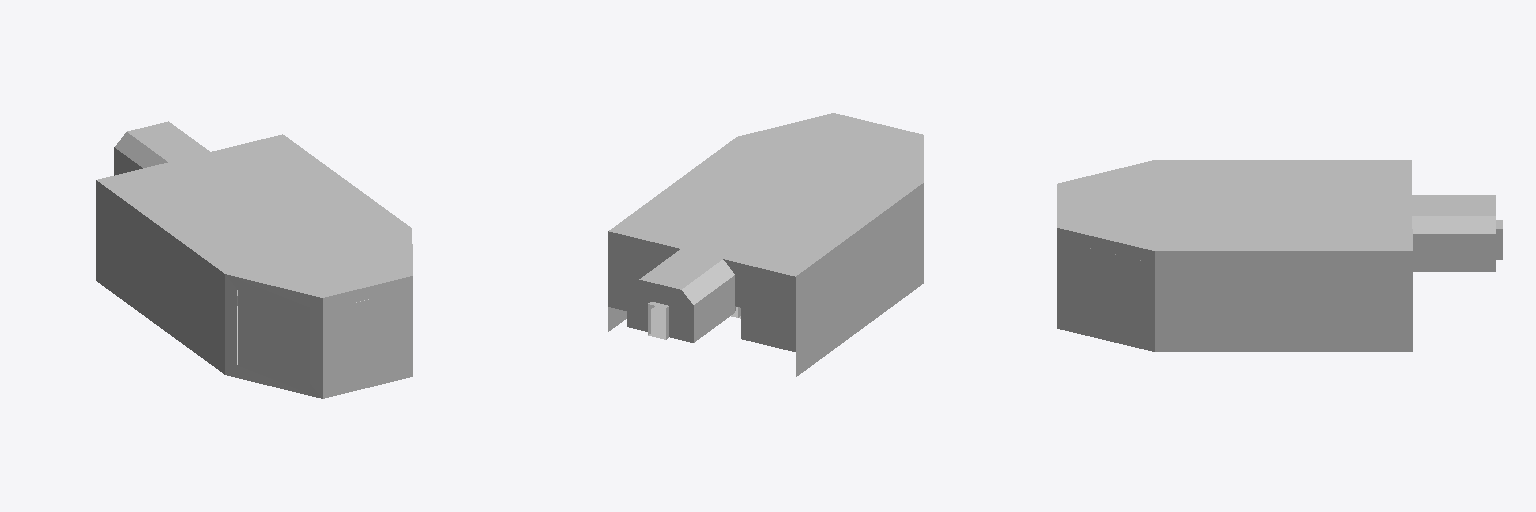
The model's file is Cool Cool Mountain Room.obj.
The picture shows the model from 3 angles: view 1: azimuth 30°, elevation 25°; view 2: azimuth 150°, elevation 25°; view 3: azimuth 270°, elevation 25°; orthographic projection.
Visible parts, largest first — view 1: Shape_IndexedFaceSet.002_Shape_IndexedFaceSet.036, Shape_IndexedFaceSet.004_Shape_IndexedFaceSet.038, Shape_IndexedFaceSet.003_Shape_IndexedFaceSet.037, Shape_IndexedFaceSet.010_Shape_IndexedFaceSet.044, Shape_IndexedFaceSet.009_Shape_IndexedFaceSet.043, Shape_IndexedFaceSet.007_Shape_IndexedFaceSet.041, Shape_IndexedFaceSet.008_Shape_IndexedFaceSet.042; view 2: Shape_IndexedFaceSet.002_Shape_IndexedFaceSet.036, Shape_IndexedFaceSet.004_Shape_IndexedFaceSet.038, Shape_IndexedFaceSet.003_Shape_IndexedFaceSet.037; view 3: Shape_IndexedFaceSet.004_Shape_IndexedFaceSet.038, Shape_IndexedFaceSet.002_Shape_IndexedFaceSet.036, Shape_IndexedFaceSet.003_Shape_IndexedFaceSet.037, Shape_IndexedFaceSet.006_Shape_IndexedFaceSet.040, Shape_IndexedFaceSet.005_Shape_IndexedFaceSet.039.
Boxes of the visible parts, x1=… form: Shape_IndexedFaceSet.002_Shape_IndexedFaceSet.036: x1=97, y1=134, x2=412, y2=364; Shape_IndexedFaceSet.004_Shape_IndexedFaceSet.038: x1=96, y1=180, x2=412, y2=398; Shape_IndexedFaceSet.003_Shape_IndexedFaceSet.037: x1=114, y1=121, x2=237, y2=305; Shape_IndexedFaceSet.010_Shape_IndexedFaceSet.044: x1=332, y1=291, x2=403, y2=345; Shape_IndexedFaceSet.009_Shape_IndexedFaceSet.043: x1=332, y1=329, x2=403, y2=383; Shape_IndexedFaceSet.007_Shape_IndexedFaceSet.041: x1=238, y1=328, x2=309, y2=382; Shape_IndexedFaceSet.008_Shape_IndexedFaceSet.042: x1=238, y1=290, x2=309, y2=344; Shape_IndexedFaceSet.002_Shape_IndexedFaceSet.036: x1=609, y1=113, x2=923, y2=318; Shape_IndexedFaceSet.004_Shape_IndexedFaceSet.038: x1=608, y1=183, x2=923, y2=376; Shape_IndexedFaceSet.003_Shape_IndexedFaceSet.037: x1=627, y1=249, x2=740, y2=342; Shape_IndexedFaceSet.004_Shape_IndexedFaceSet.038: x1=1057, y1=228, x2=1412, y2=351; Shape_IndexedFaceSet.002_Shape_IndexedFaceSet.036: x1=1057, y1=160, x2=1412, y2=250; Shape_IndexedFaceSet.003_Shape_IndexedFaceSet.037: x1=1412, y1=195, x2=1502, y2=271; Shape_IndexedFaceSet.006_Shape_IndexedFaceSet.040: x1=1070, y1=244, x2=1142, y2=298; Shape_IndexedFaceSet.005_Shape_IndexedFaceSet.039: x1=1070, y1=282, x2=1142, y2=336.
Size of the model in its own units: 1.59 by 0.819 by 3.28.